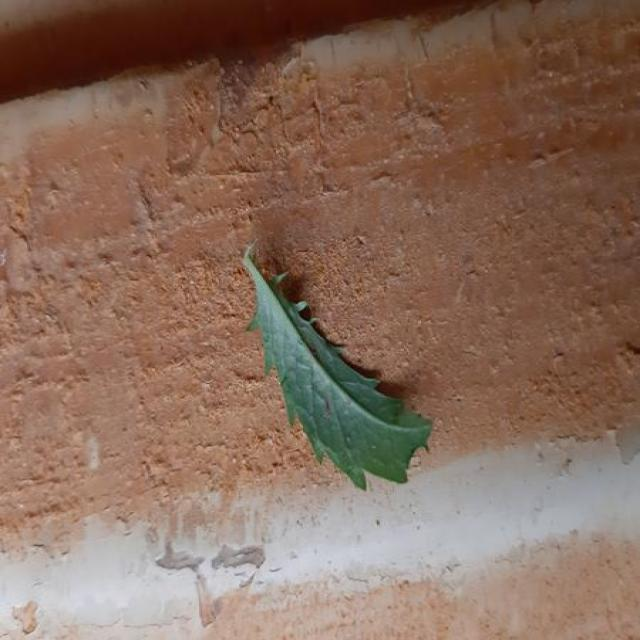marigold: (243, 245, 432, 488)
